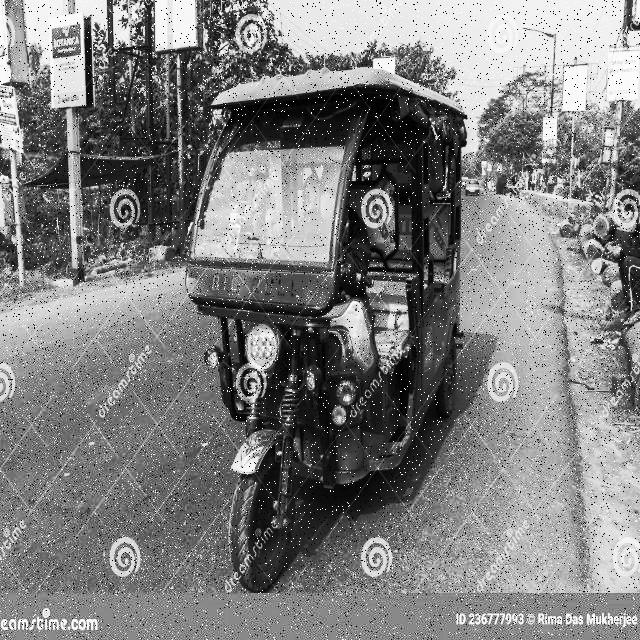Toto: (185, 69, 472, 595)
